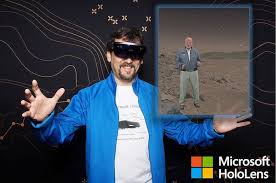hololens: (106, 41, 146, 60)
